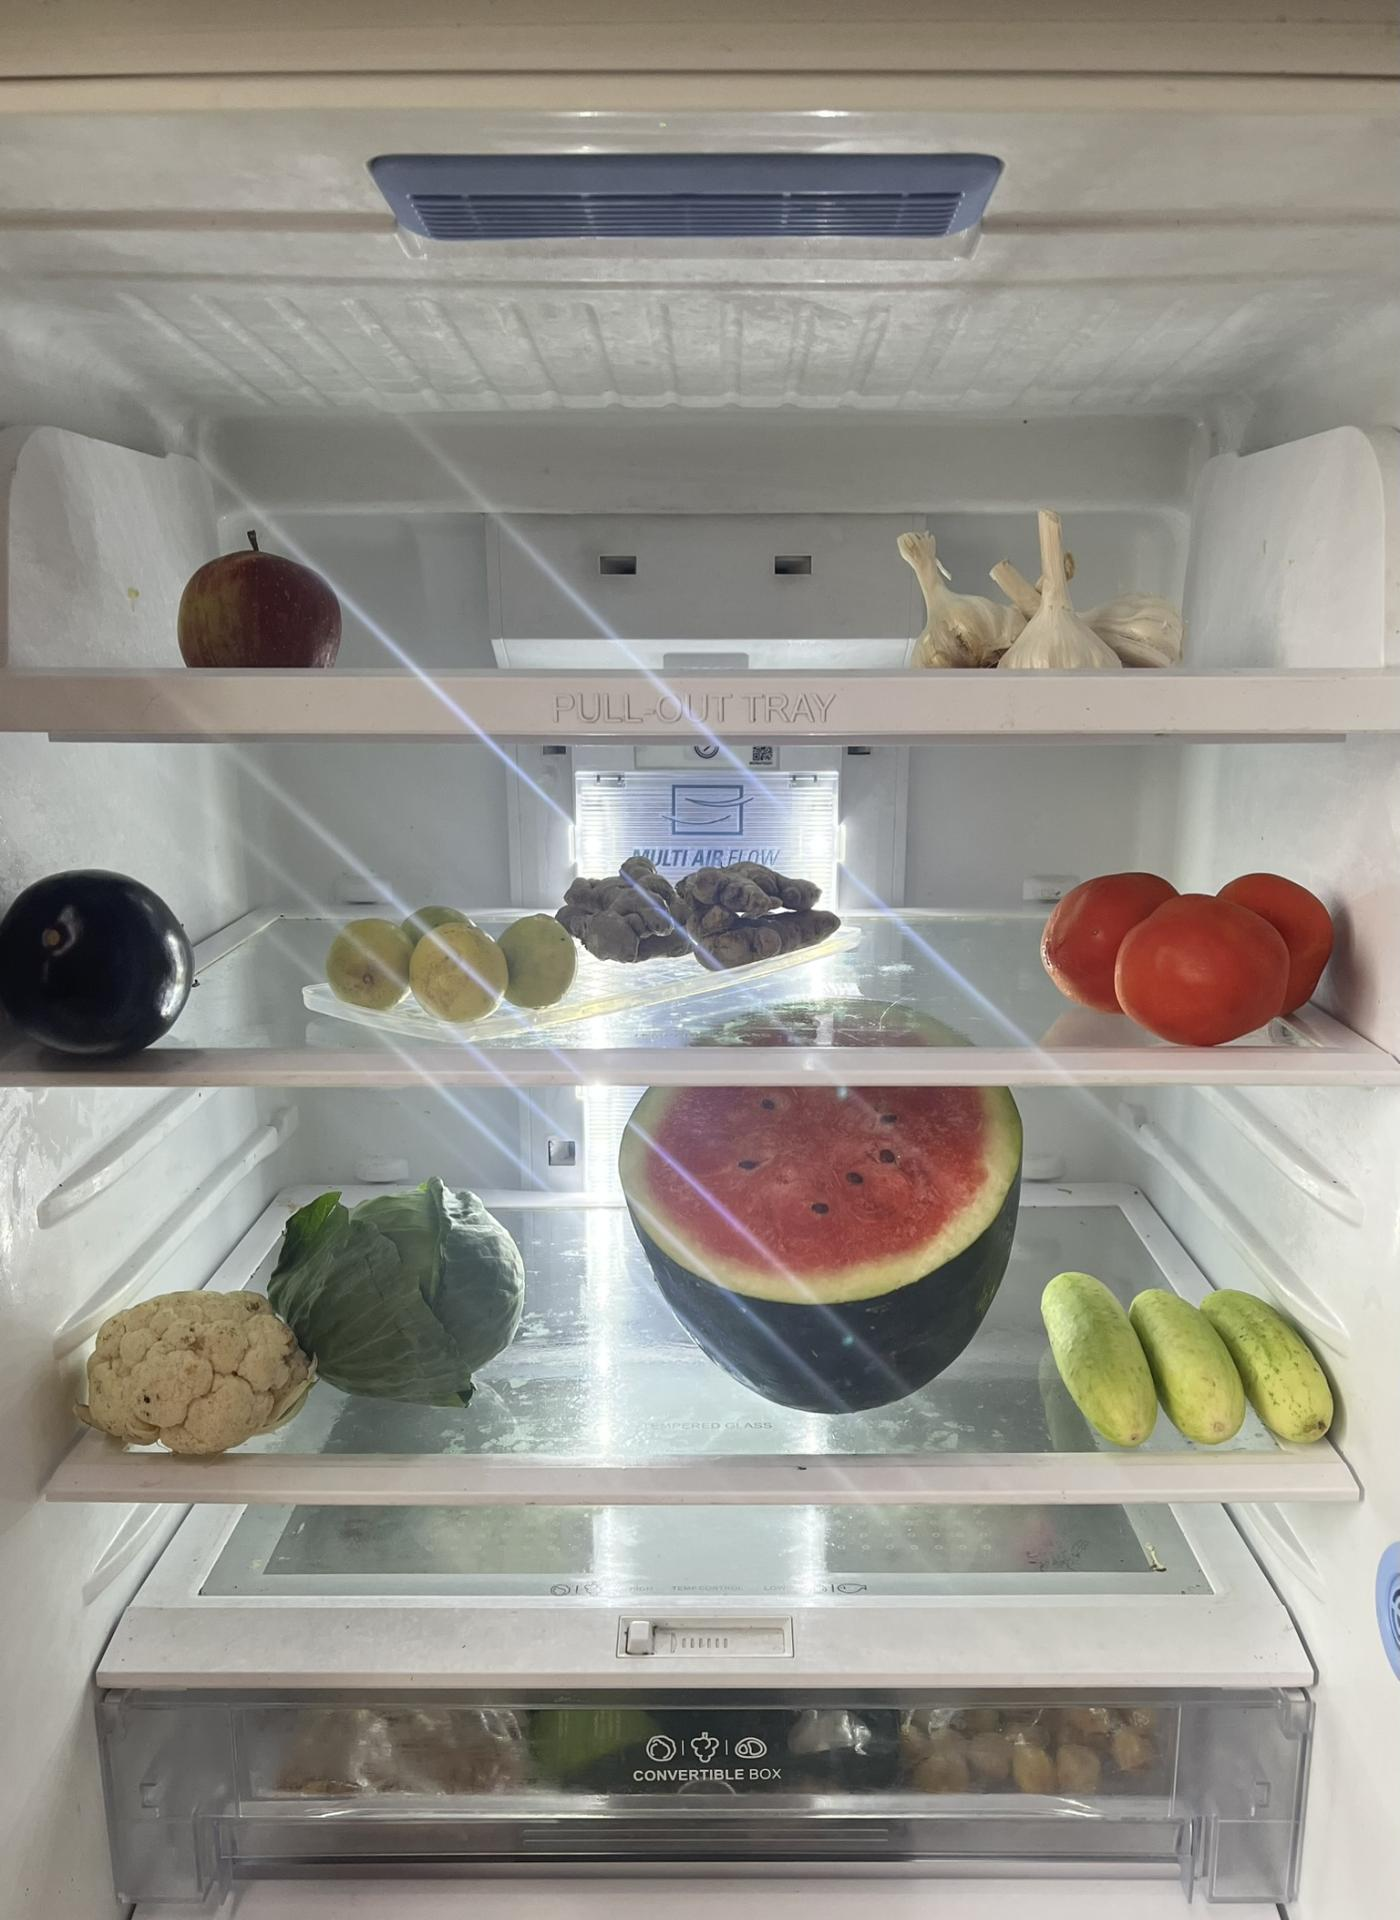apple: (170, 525, 346, 669)
cabbage: (276, 1185, 522, 1410)
cauliflower: (79, 1282, 316, 1456)
cucumber: (1048, 1254, 1352, 1450)
garlic: (893, 522, 1197, 669)
ginger: (559, 847, 854, 969)
lemon: (319, 900, 580, 1023)
tomato: (1033, 856, 1340, 1043)
watermelon: (617, 1009, 1039, 1425)
